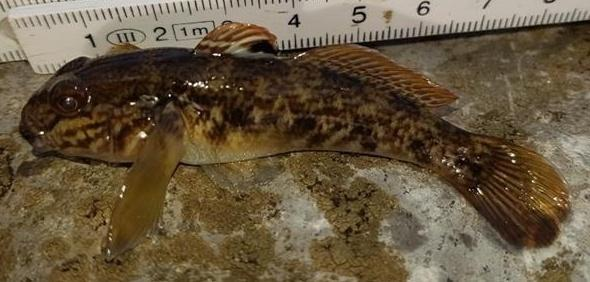Goby: (13, 22, 575, 258)
